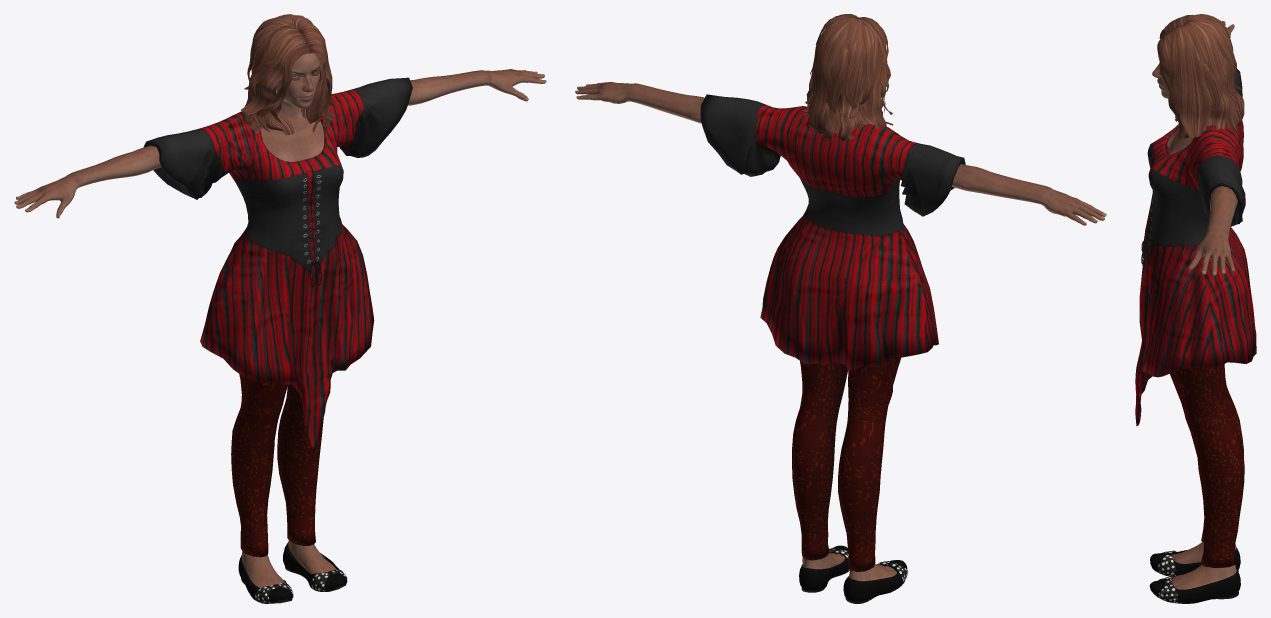
The picture shows the model from 3 angles, left to right: view 1: azimuth 30°, elevation 25°; view 2: azimuth 150°, elevation 25°; view 3: azimuth 270°, elevation 25°; orthographic projection.
Parts seen in each view (by area): view 1: Tops, Bottoms, Body, Hair, Shoes; view 2: Tops, Bottoms, Hair, Body, Shoes; view 3: Tops, Bottoms, Hair, Body, Shoes.
Part boxes in pixels (x1,y1,x2,y2): Tops: (143, 77, 412, 453); Bottoms: (231, 258, 332, 557); Body: (14, 53, 546, 587); Hair: (241, 14, 338, 135); Shoes: (238, 542, 347, 603); Tops: (700, 94, 965, 404); Bottoms: (792, 357, 900, 571); Hair: (803, 14, 892, 140); Body: (575, 82, 1106, 581); Shoes: (799, 545, 907, 603); Tops: (1135, 69, 1256, 426); Bottoms: (1170, 246, 1244, 567); Hair: (1157, 14, 1244, 139); Body: (1152, 21, 1237, 589); Shoes: (1149, 547, 1240, 603).
Size of the model in its own units: 180 by 184 by 35.82.
Materials: 5 (5 with a texture image).
